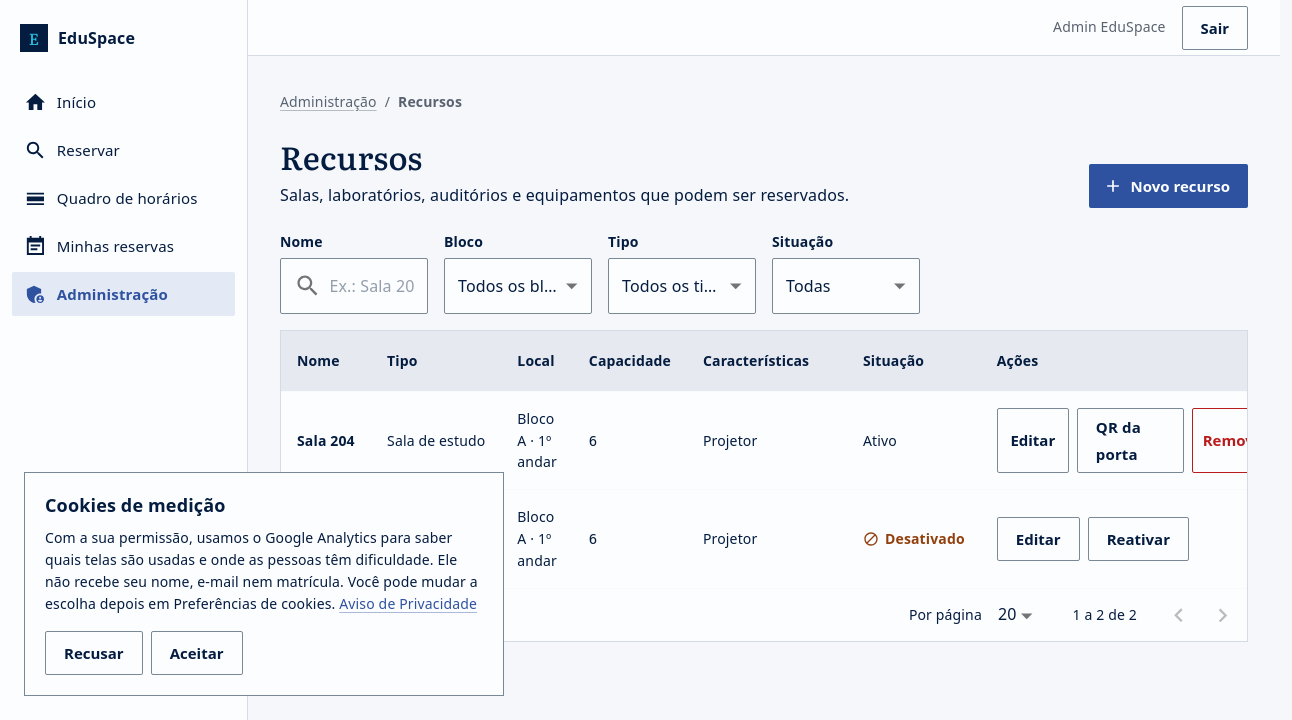
Test: admin resources › reactivates a deactivated resource
The image size is (1292, 720).
Click the button with aria-label "Reativar Sala em reforma" at coordinates (1138, 539), box [1088, 517, 1189, 561]
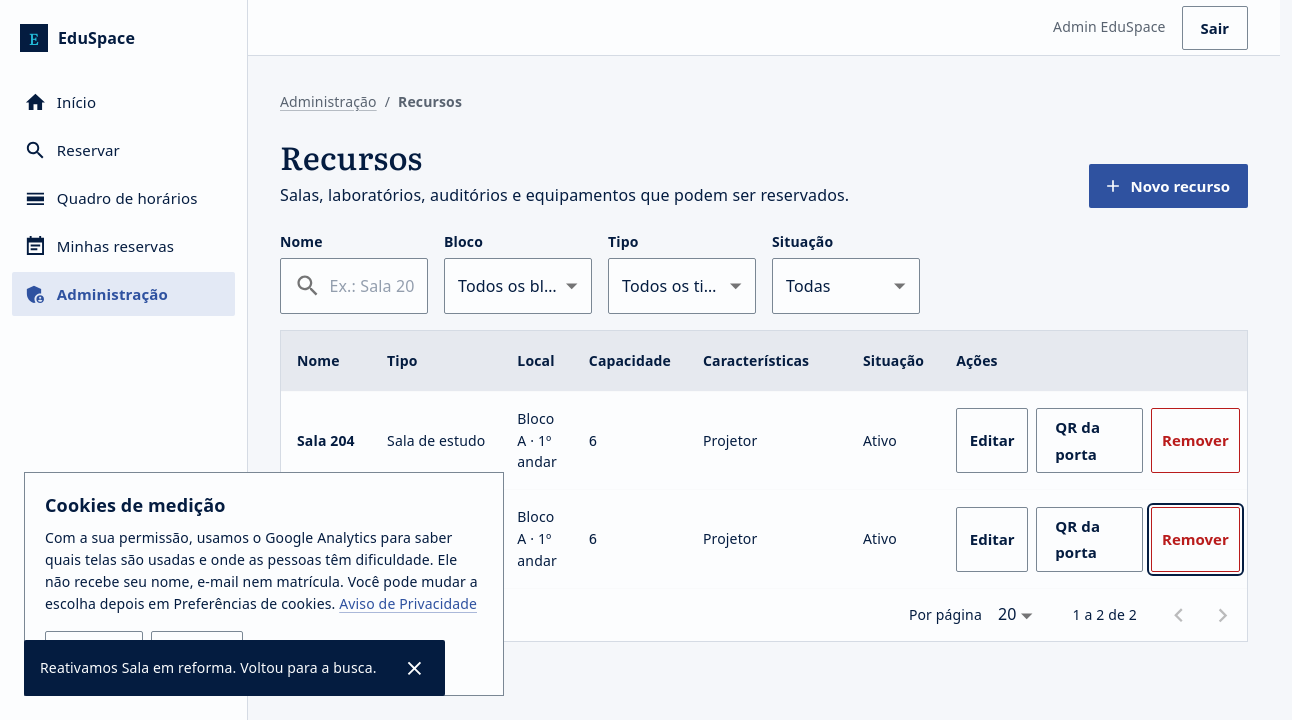
Result: the message reads "Reativamos Sala em reforma. Voltou para a busca." at [40, 658, 376, 677]
Result: the button with aria-label "Remover Sala em reforma" is shown at [1151, 507, 1240, 572]
